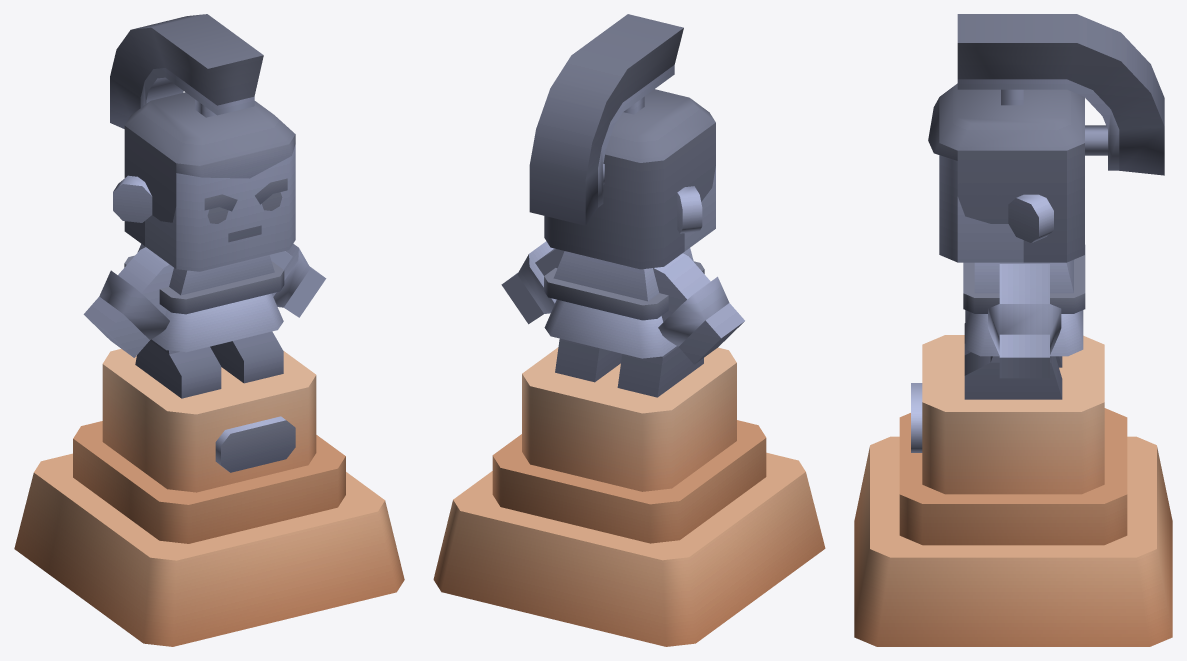
The model's file is prop_statue.glb.
3 renders of one model, left to right at view 1: azimuth 30°, elevation 25°; view 2: azimuth 150°, elevation 25°; view 3: azimuth 270°, elevation 25°, orthographic. The views are drawn at different scales.
Parts seen in each view (by area): view 1: statue; view 2: statue; view 3: statue.
Boxes of the visible parts, x1=… form: statue: x1=14, y1=14, x2=404, y2=646; statue: x1=433, y1=14, x2=825, y2=646; statue: x1=854, y1=14, x2=1172, y2=646.
Size of the model in its own units: 0.7001 by 1.34 by 0.7001.
Materials: 1 (1 with a texture image).
